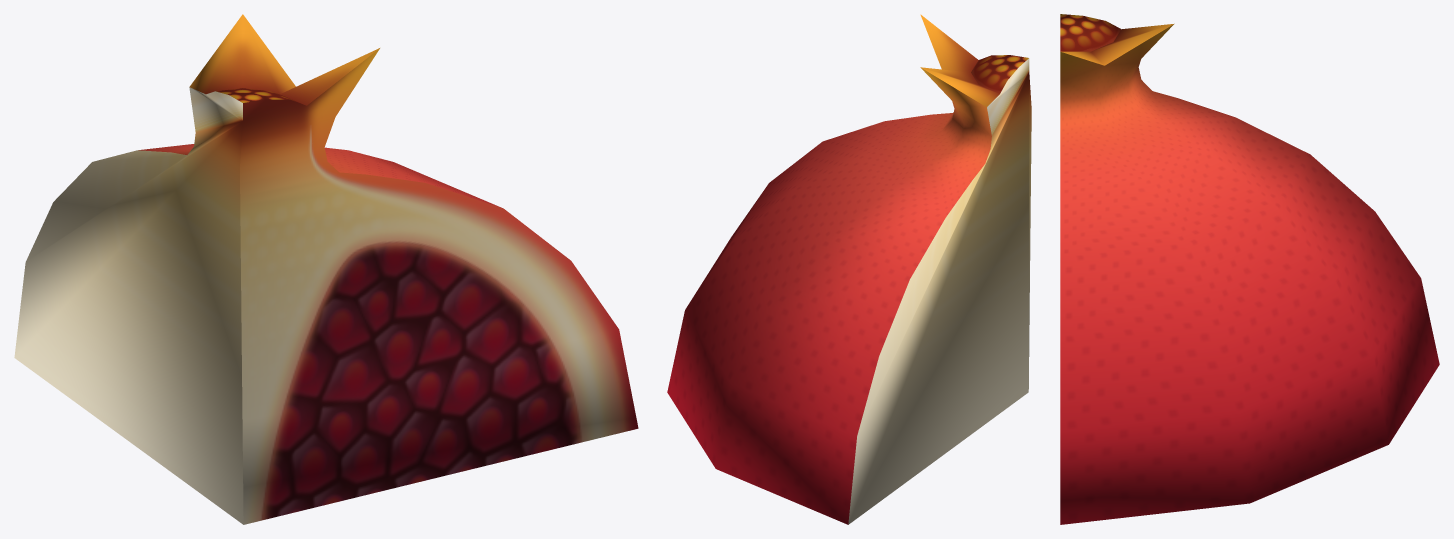
File: Pome_Top2.fbx
The picture shows the model from 3 angles, left to right: view 1: azimuth 30°, elevation 25°; view 2: azimuth 150°, elevation 25°; view 3: azimuth 270°, elevation 25°; orthographic projection. The views are drawn at different scales.
Visible parts, largest first — view 1: Pomegranate_Top2; view 2: Pomegranate_Top2; view 3: Pomegranate_Top2.
Boxes of the visible parts, x1=… form: Pomegranate_Top2: x1=14, y1=14, x2=638, y2=524; Pomegranate_Top2: x1=667, y1=14, x2=1031, y2=524; Pomegranate_Top2: x1=1060, y1=14, x2=1439, y2=524.
Bounding box in the file's own units: 0.7557 × 0.8041 × 0.75.
